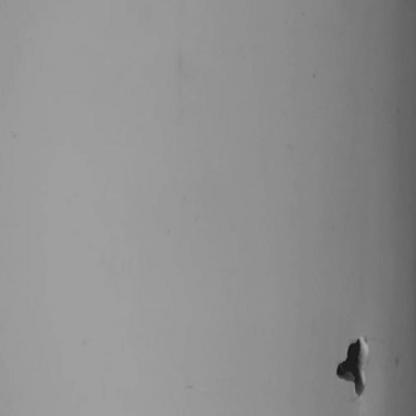kongdong: (336, 327, 377, 403)
